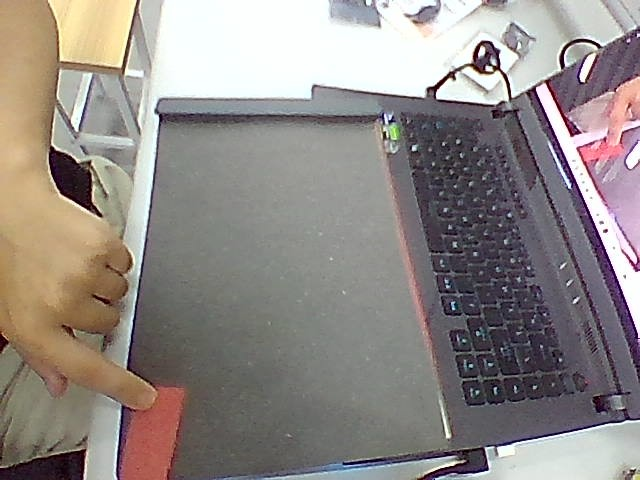card: (120, 386, 184, 479)
